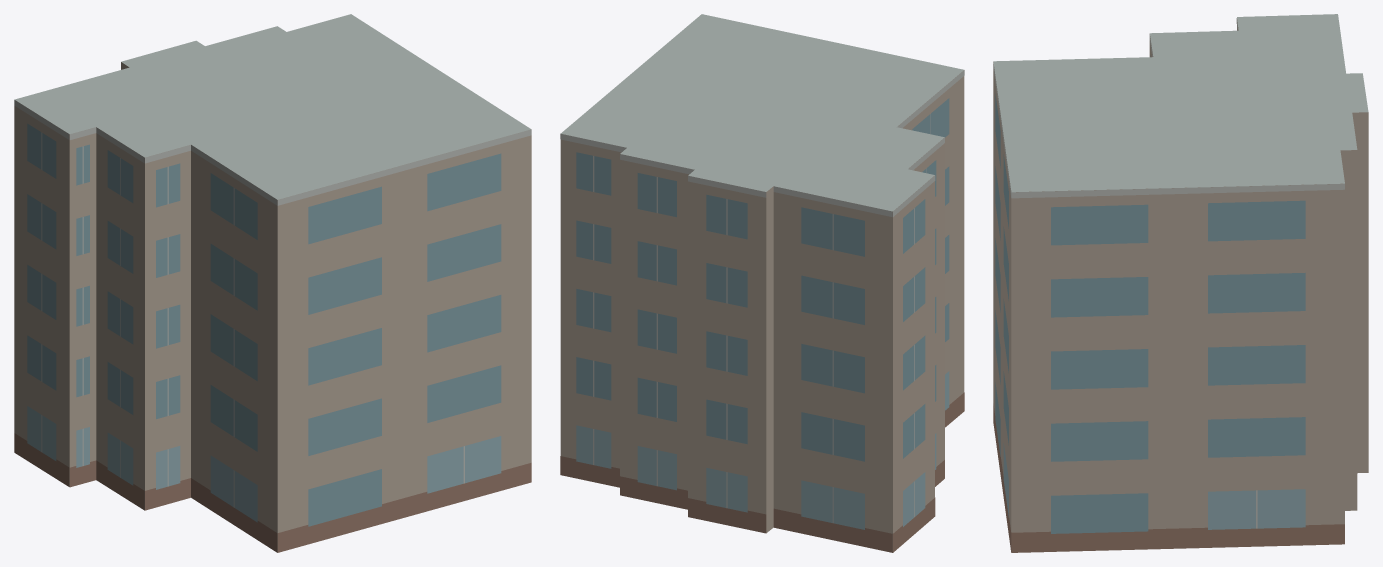
File: survey-upis-32606295.glb
3 renders of one model, left to right at view 1: azimuth 30°, elevation 25°; view 2: azimuth 150°, elevation 25°; view 3: azimuth 270°, elevation 25°, orthographic. The views are drawn at different scales.
Parts seen in each view (by area): view 1: survey-upis-32606295.tmp; view 2: survey-upis-32606295.tmp; view 3: survey-upis-32606295.tmp.
Part boxes in pixels (box(x1,y1,x2,y2)): survey-upis-32606295.tmp: box(14, 14, 531, 552); survey-upis-32606295.tmp: box(560, 14, 964, 552); survey-upis-32606295.tmp: box(993, 14, 1368, 552).
Size of the model in its own units: 15.27 by 14.4 by 13.59.
